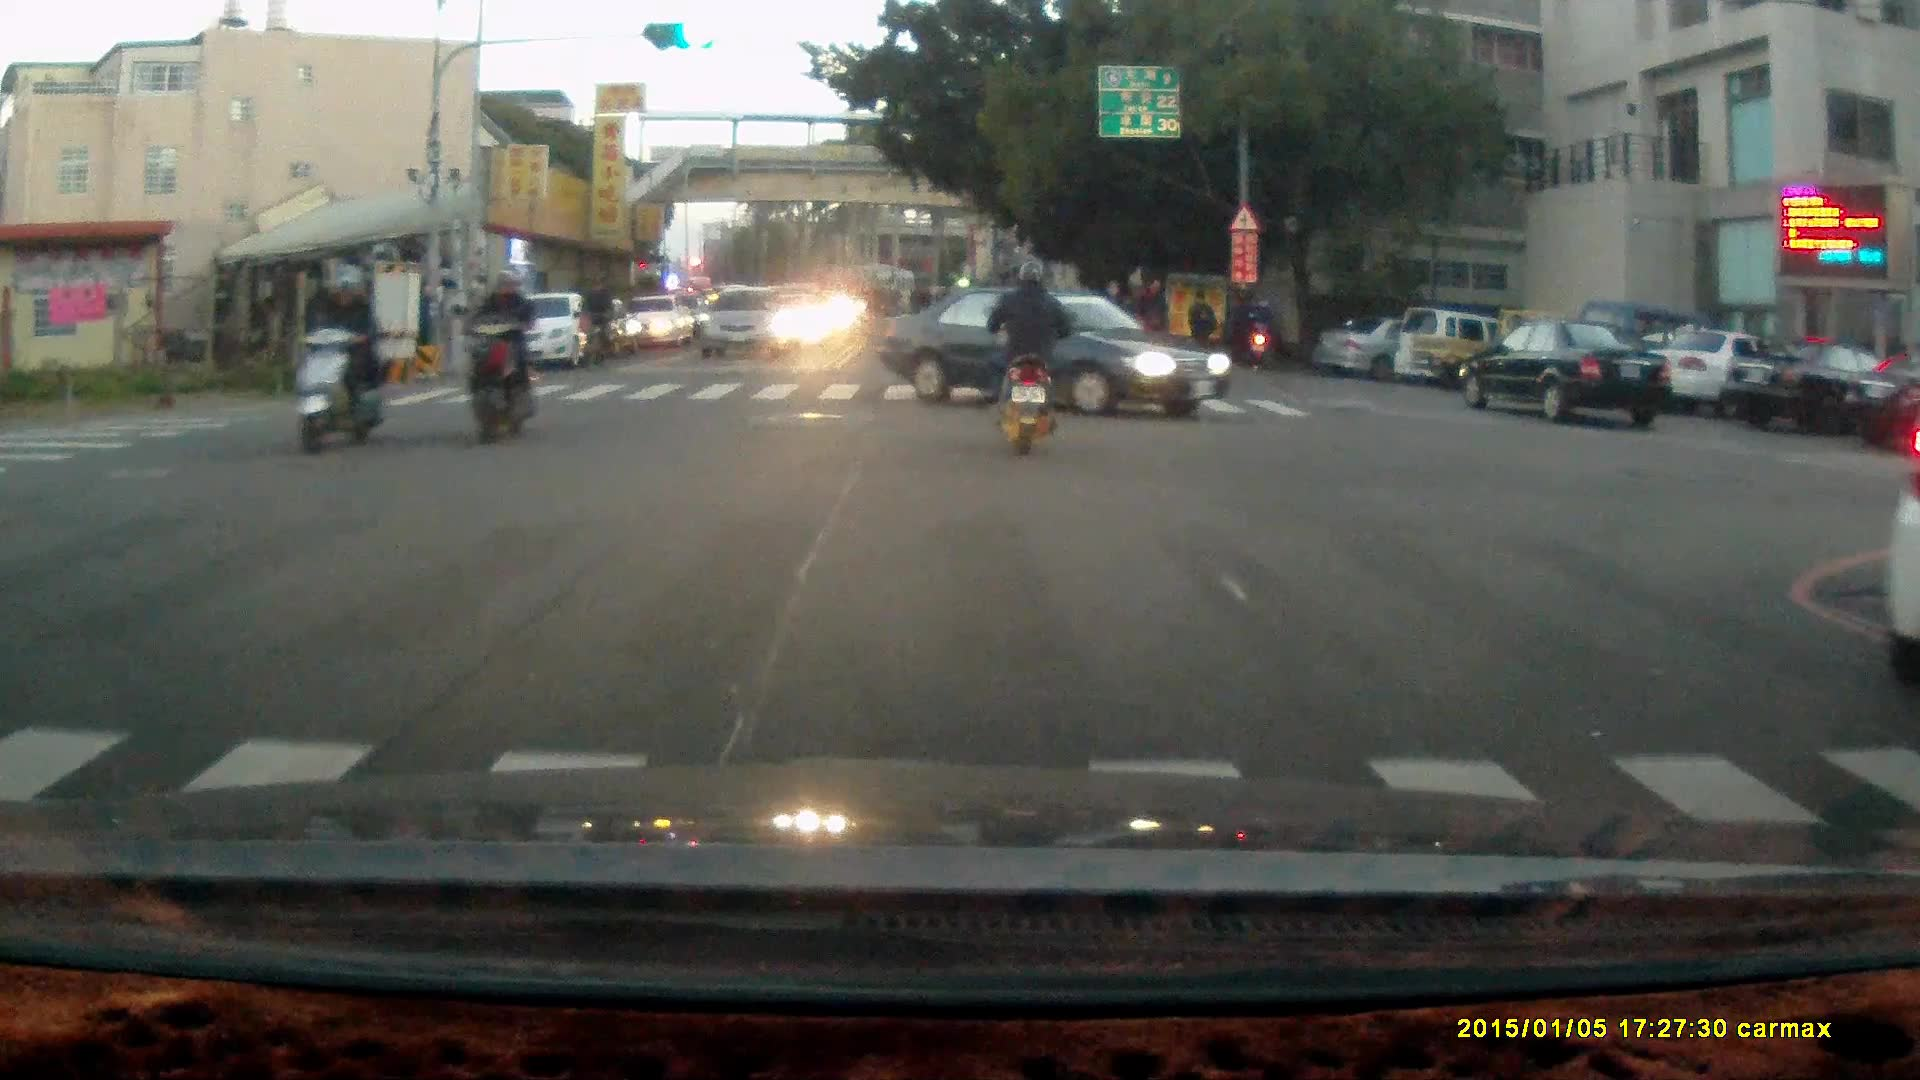pedestrian: (1133, 277, 1169, 368), (1185, 289, 1218, 383), (1225, 288, 1256, 365)
rider: (292, 260, 386, 454), (987, 254, 1073, 451), (448, 264, 534, 450), (574, 274, 614, 369), (1237, 297, 1278, 363)
vehicle: (871, 280, 1234, 423), (1460, 318, 1675, 428), (1733, 342, 1914, 443), (1632, 328, 1821, 424), (1406, 311, 1615, 396), (1313, 312, 1497, 369), (484, 293, 602, 370), (692, 284, 795, 363), (1842, 358, 1920, 452)
